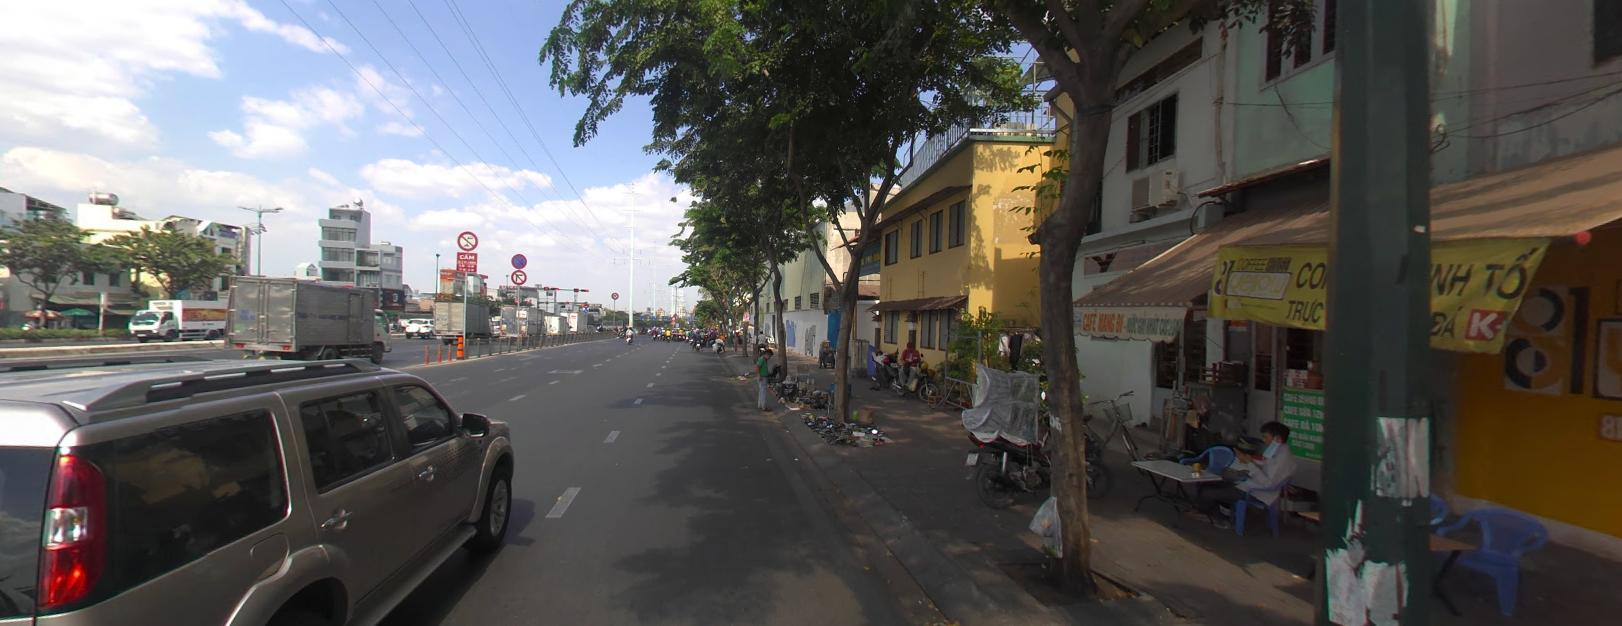Cam con lai: (457, 229, 478, 248)
Cam dung va do: (511, 252, 525, 266), (673, 312, 675, 315)
Cam re: (510, 268, 525, 284), (610, 291, 618, 298)
